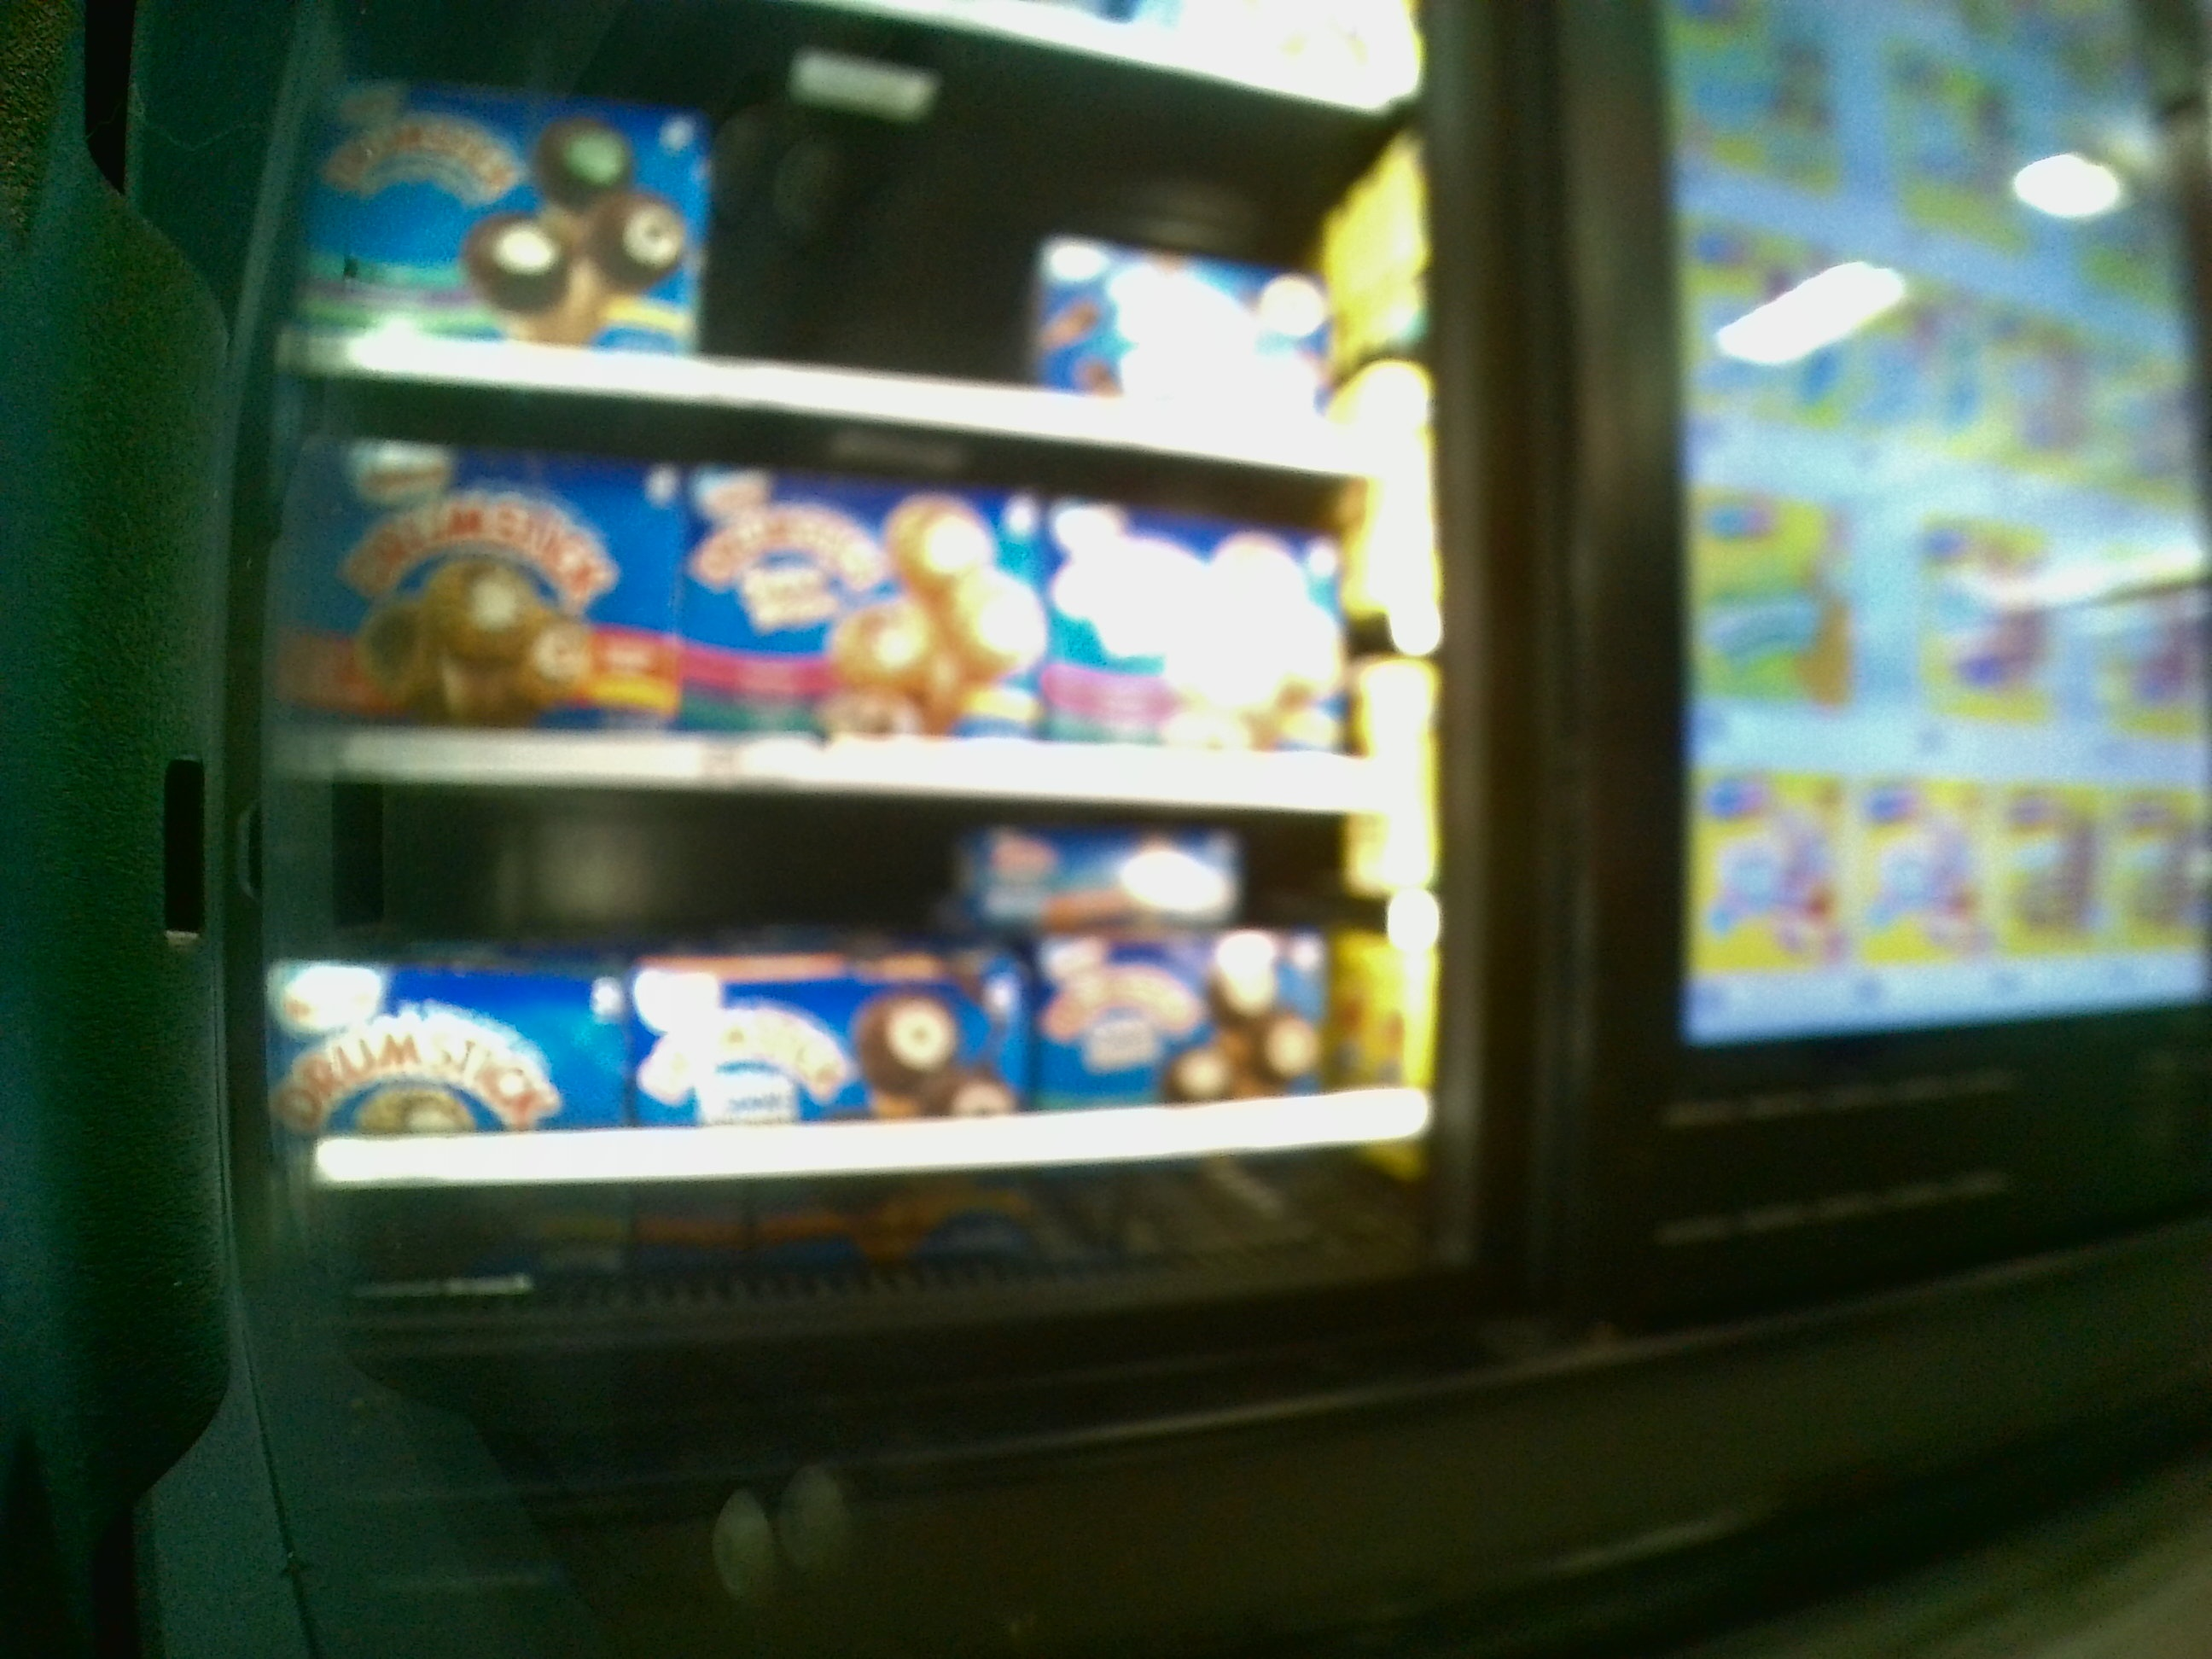shelf: (314, 805, 1421, 1256), (301, 411, 1402, 814)
